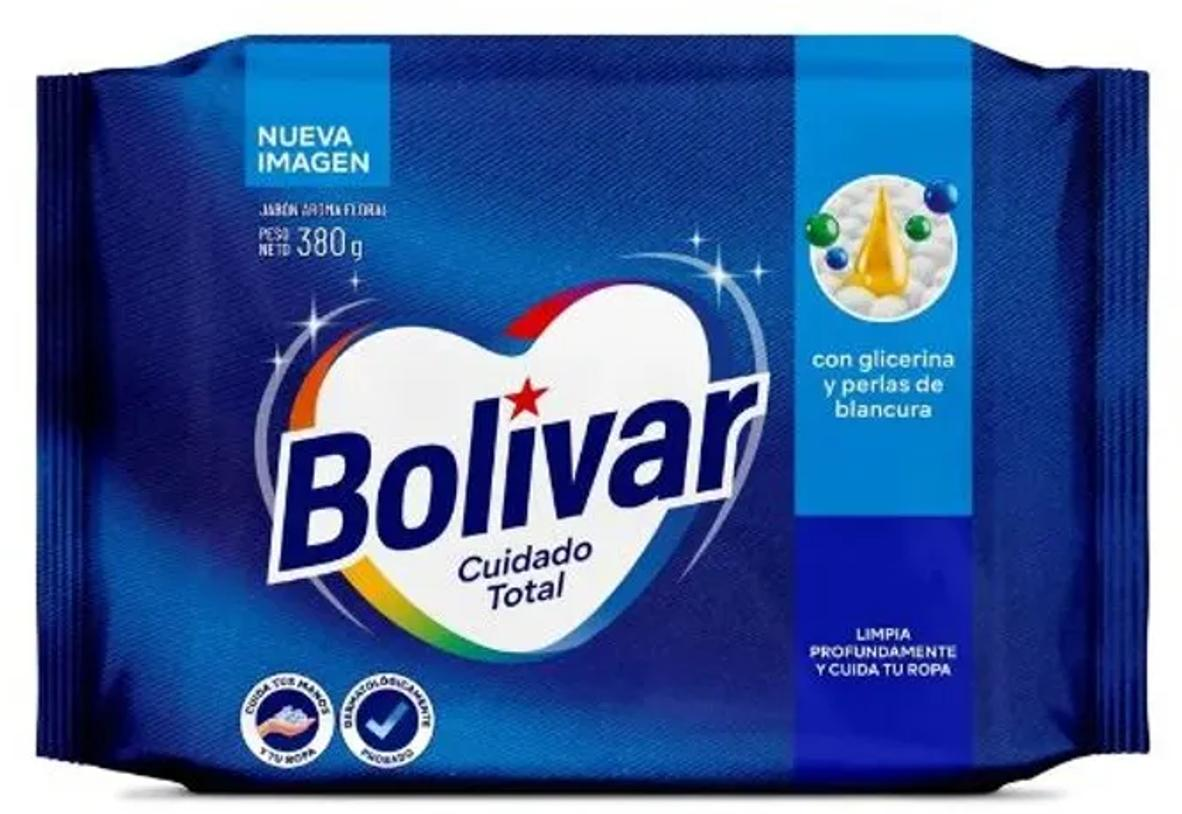brand: (242, 331, 774, 589)
extra_detail: (450, 530, 606, 617)
net_weight: (297, 218, 400, 267)
